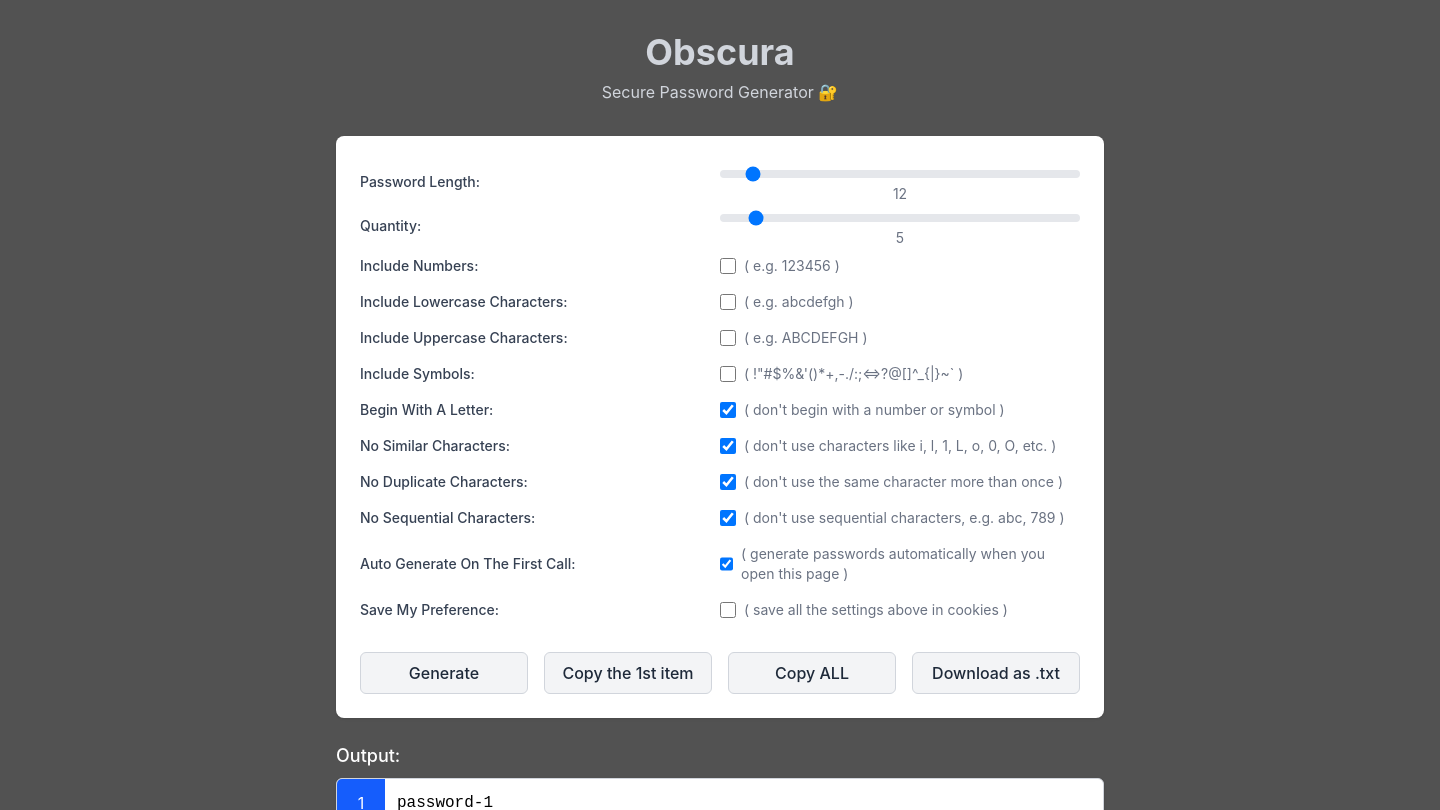
Test: ObscuraUi component tests › Error handling › shows error modal when no character types are selected
# Attempt to generate passwords
Click the button "Generate": (444, 673) x1=360 y1=652 x2=528 y2=694
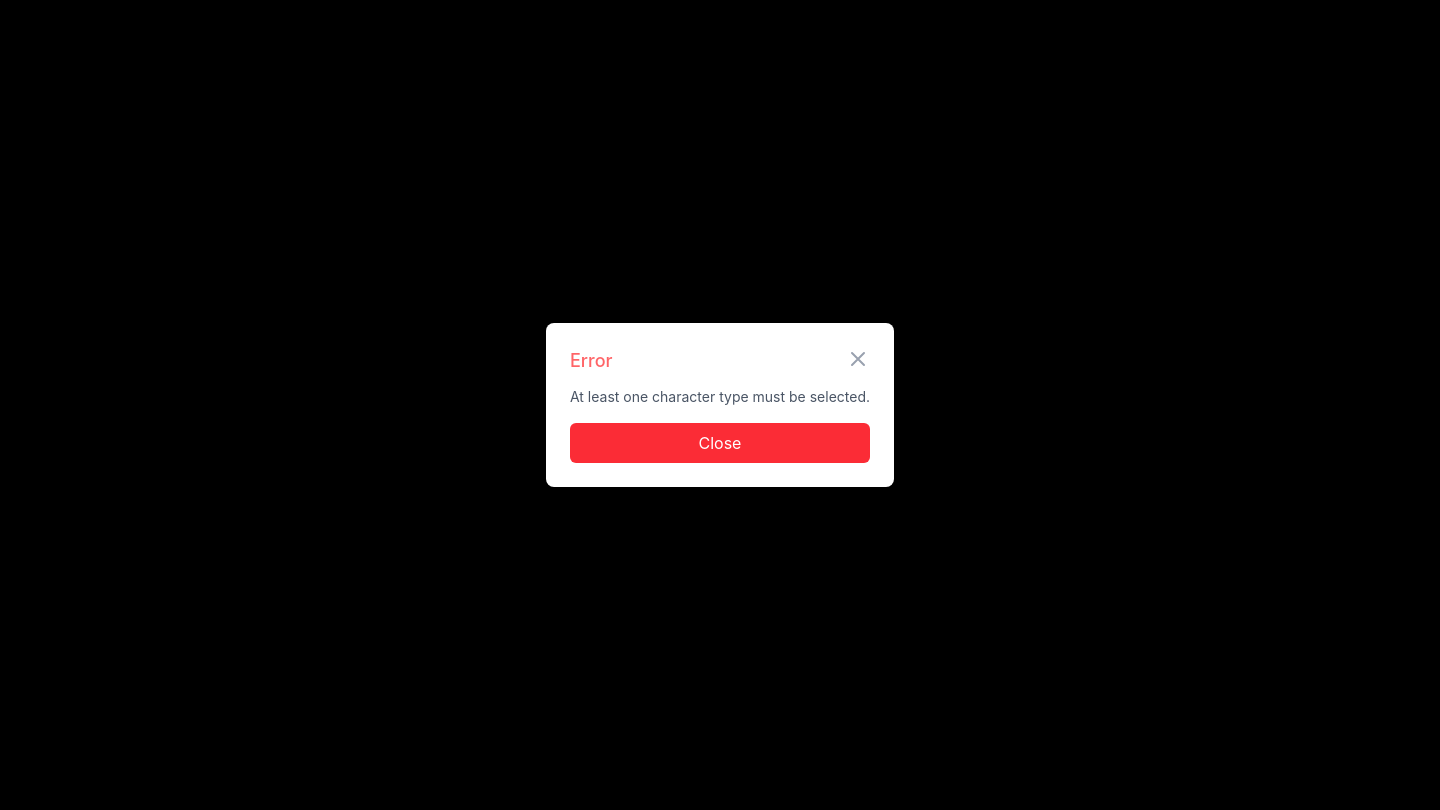
expect the text "At least one character type must be selected." is shown: met, box x1=570 y1=387 x2=870 y2=407
expect the element with class "inset-0" is shown: met
